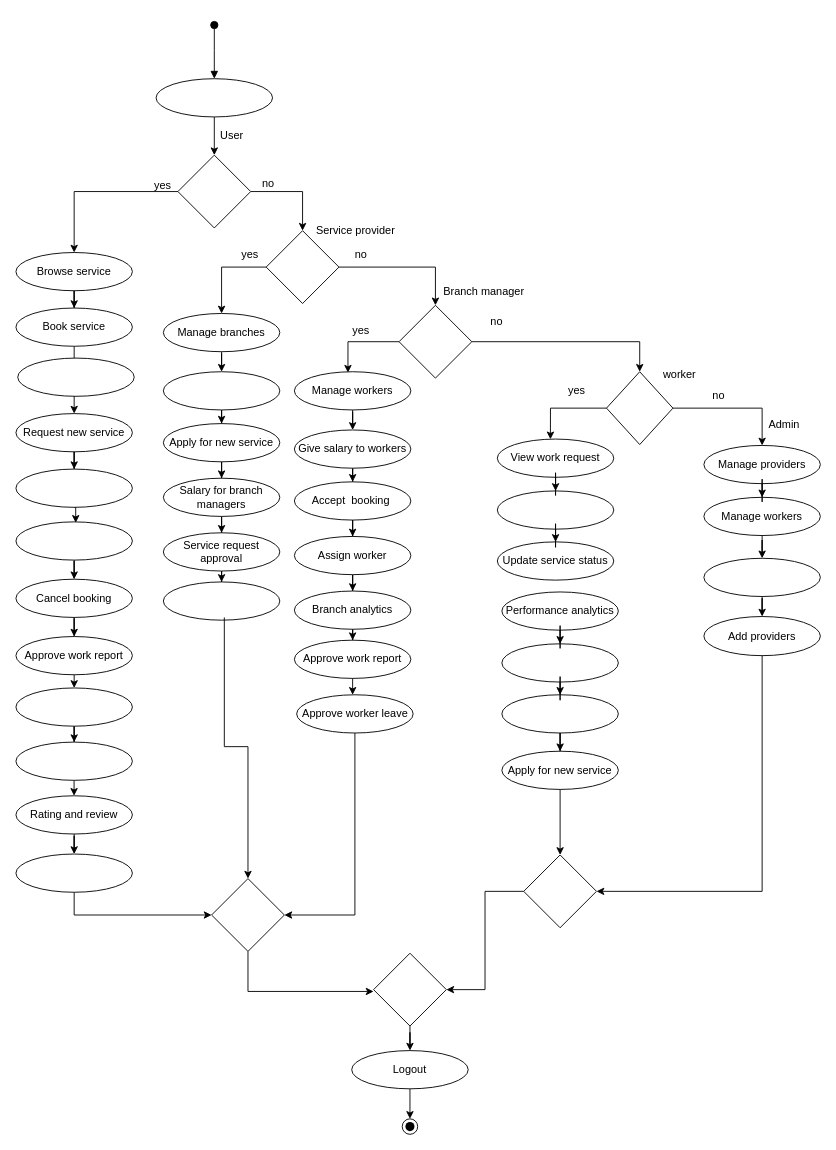
Some shapes in this 836 by 1150 pixel diagram are drawn without their labels. The box of each missing label's shape, as (x1, y1, x2, y2) in pixels:
Add branch managers: (162, 581, 280, 620)
Chatbot for enquires: (15, 468, 132, 507)
Download work report: (15, 687, 132, 726)
Give work report: (496, 490, 614, 529)
Leave application: (501, 694, 618, 733)
Logged-in: (155, 78, 273, 117)
Manage clients: (703, 557, 820, 597)
Manage profile: (15, 741, 132, 780)
Payment: (15, 853, 132, 892)
Reshedule booking: (17, 357, 134, 396)
Search service: (15, 521, 132, 560)
Set target for branches: (162, 371, 280, 410)
Wallet: (501, 643, 618, 682)
